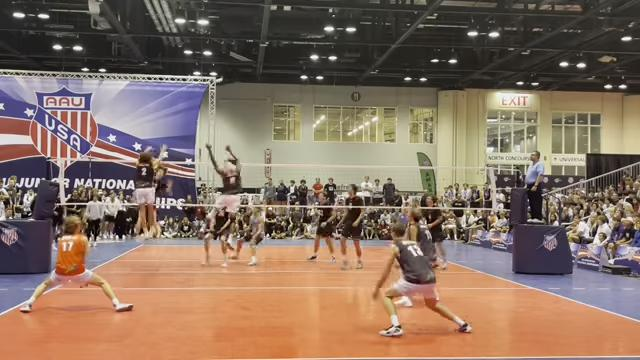Attack: (153, 159, 166, 233)
Block: (199, 142, 244, 236), (132, 141, 167, 241)
Player: (373, 223, 471, 336), (20, 216, 132, 312), (338, 184, 364, 269), (308, 193, 335, 263), (405, 209, 436, 267), (423, 196, 447, 269), (203, 208, 233, 266), (233, 207, 263, 265), (135, 152, 154, 237)
